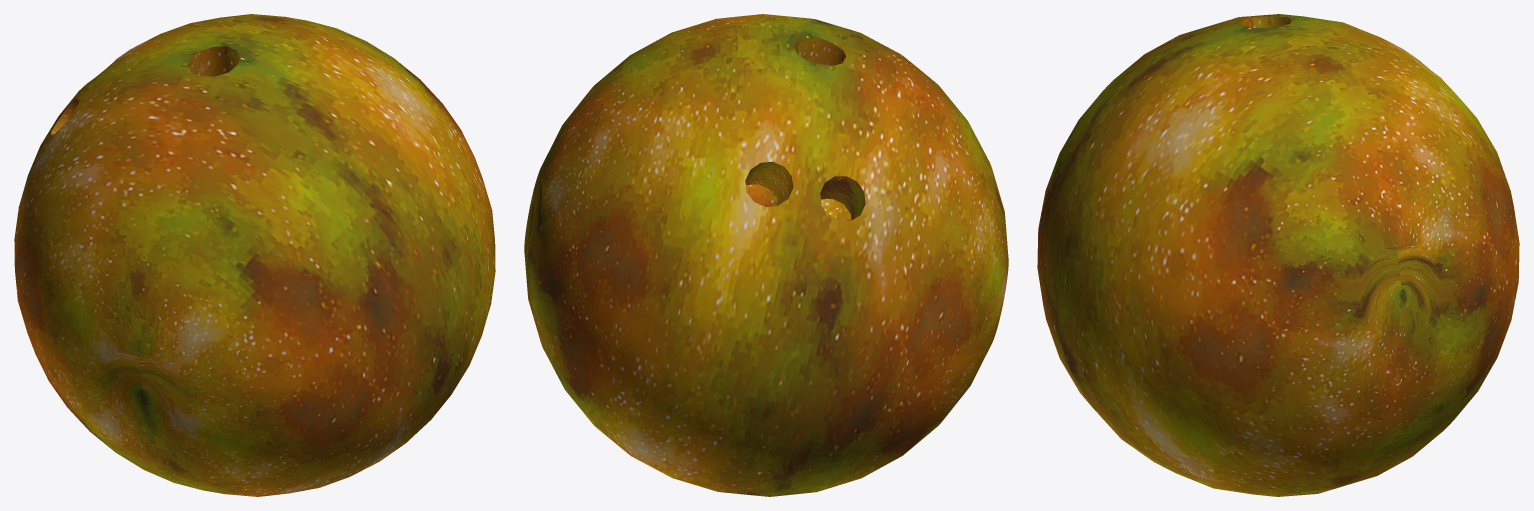
Rendered from BowlingBall_Yellow.fbx.
3 renders of one model, left to right at view 1: azimuth 30°, elevation 25°; view 2: azimuth 150°, elevation 25°; view 3: azimuth 270°, elevation 25°, orthographic.
Visible parts, largest first — view 1: BowlingBall_Yellow; view 2: BowlingBall_Yellow; view 3: BowlingBall_Yellow.
Boxes of the visible parts, box(x1,y1,x2,y2) form: BowlingBall_Yellow: box(14, 14, 495, 496); BowlingBall_Yellow: box(524, 14, 1008, 496); BowlingBall_Yellow: box(1037, 14, 1519, 496).
Bounding box in the file's own units: 0.2077 × 0.2073 × 0.207.
